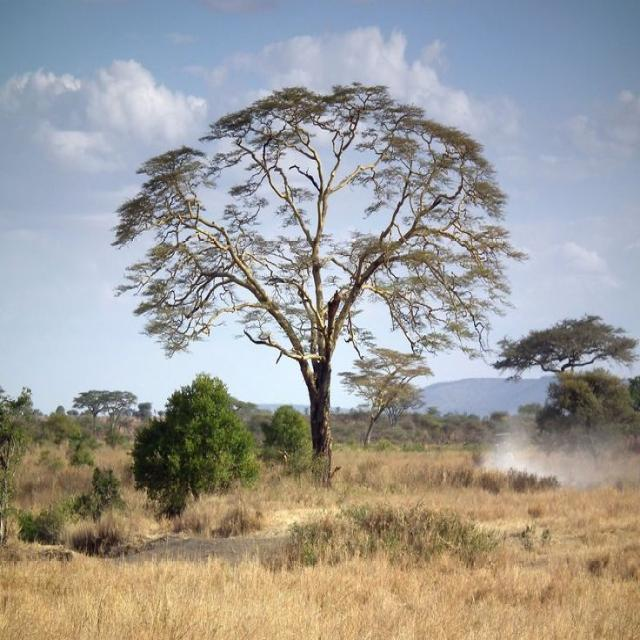Acacia: (205, 103, 486, 467)
